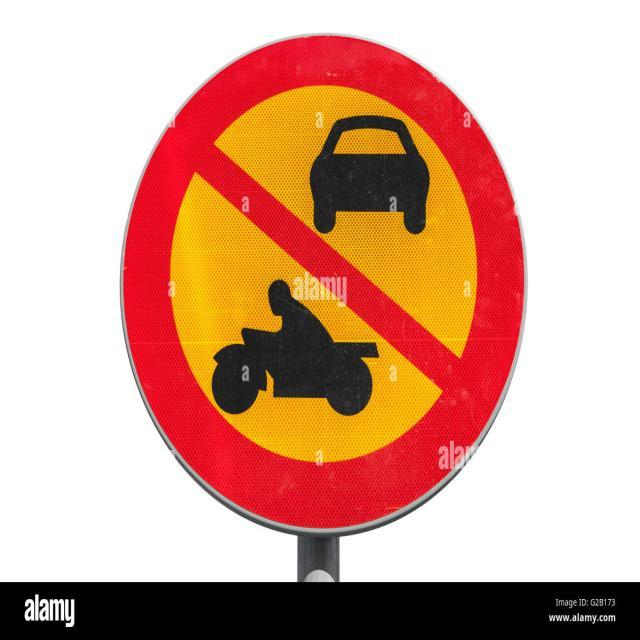all motor vehicle prohibited: (118, 30, 524, 537)
